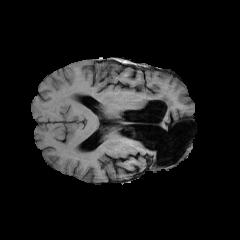glioma: (122, 122, 195, 152)
